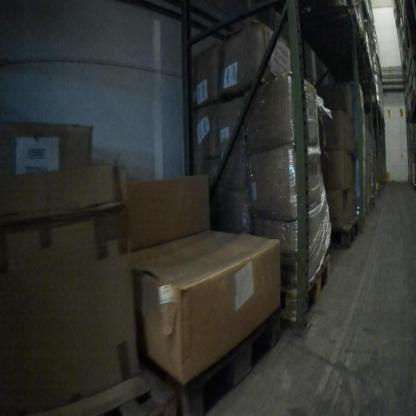pallet: (152, 298, 286, 412), (39, 368, 175, 413), (278, 251, 337, 329), (299, 38, 374, 79), (294, 30, 369, 61), (327, 212, 364, 260), (302, 8, 362, 35), (407, 73, 416, 96), (407, 54, 415, 77)
